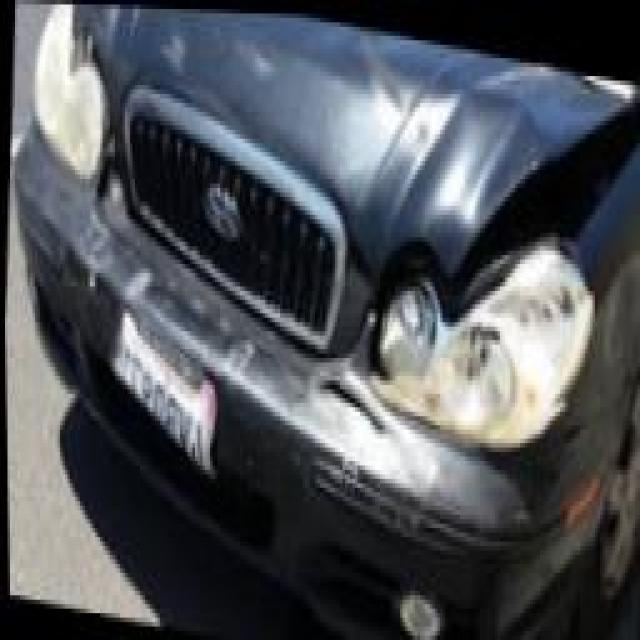rapairable: (370, 88, 552, 253)
replaceable: (394, 271, 580, 431)
